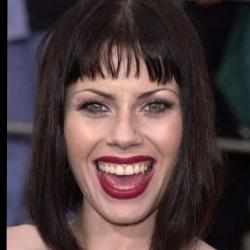face: (19, 3, 235, 250)
